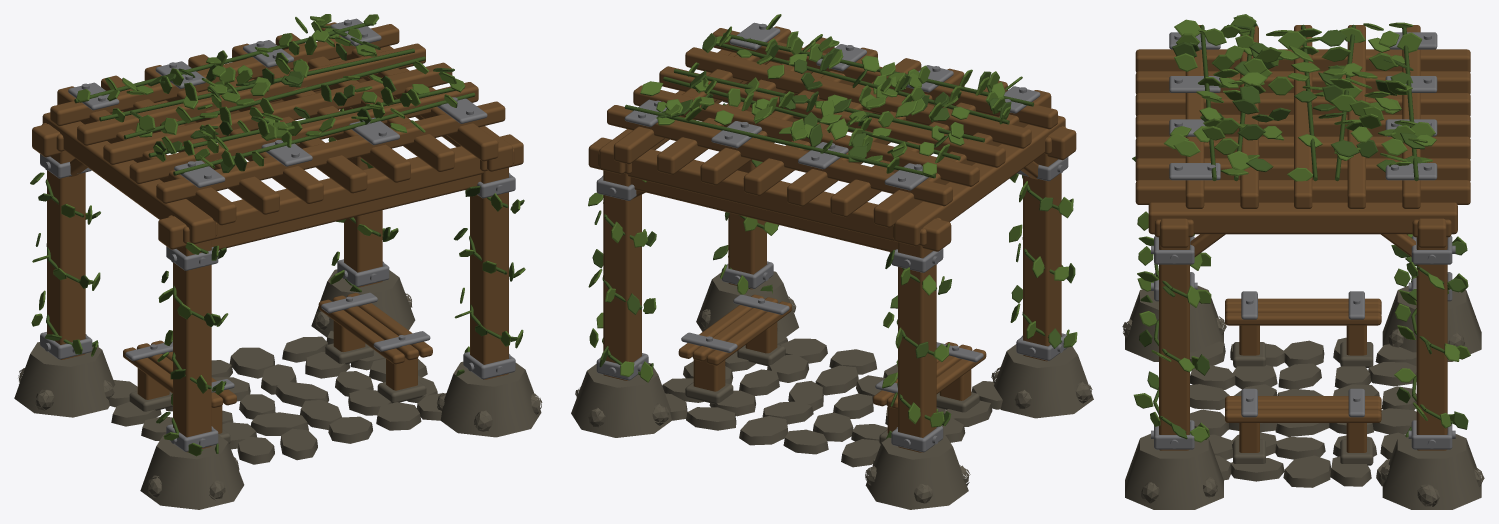
The model's file is pergola.glb.
3 views of the same model, side by side, from view 1: azimuth 30°, elevation 25°; view 2: azimuth 150°, elevation 25°; view 3: azimuth 270°, elevation 25° (orthographic). The views are drawn at different scales.
Visible parts, largest first — view 1: pergola-farm-wood-shadow, pergola-farm-stone-dark, pergola-farm-leaf, pergola-farm-metal, pergola-farm-leaf-dark; view 2: pergola-farm-wood-shadow, pergola-farm-stone-dark, pergola-farm-leaf, pergola-farm-leaf-dark, pergola-farm-metal; view 3: pergola-farm-wood-shadow, pergola-farm-stone-dark, pergola-farm-leaf, pergola-farm-leaf-dark, pergola-farm-metal.
Boxes of the visible parts, x1=… form: pergola-farm-wood-shadow: x1=32, y1=22, x2=523, y2=452; pergola-farm-stone-dark: x1=14, y1=269, x2=542, y2=509; pergola-farm-leaf: x1=30, y1=14, x2=525, y2=456; pergola-farm-metal: x1=40, y1=18, x2=515, y2=451; pergola-farm-leaf-dark: x1=35, y1=22, x2=524, y2=453; pergola-farm-wood-shadow: x1=588, y1=26, x2=1076, y2=452; pergola-farm-stone-dark: x1=571, y1=271, x2=1093, y2=509; pergola-farm-leaf: x1=588, y1=14, x2=1077, y2=427; pergola-farm-leaf-dark: x1=592, y1=33, x2=1075, y2=438; pergola-farm-metal: x1=596, y1=22, x2=1068, y2=452; pergola-farm-wood-shadow: x1=1135, y1=25, x2=1470, y2=452; pergola-farm-stone-dark: x1=1122, y1=285, x2=1484, y2=509; pergola-farm-leaf: x1=1133, y1=14, x2=1470, y2=442; pergola-farm-leaf-dark: x1=1132, y1=16, x2=1468, y2=439; pergola-farm-metal: x1=1151, y1=32, x2=1455, y2=449.
Size of the model in its own units: 4.48 by 3.59 by 3.51.
